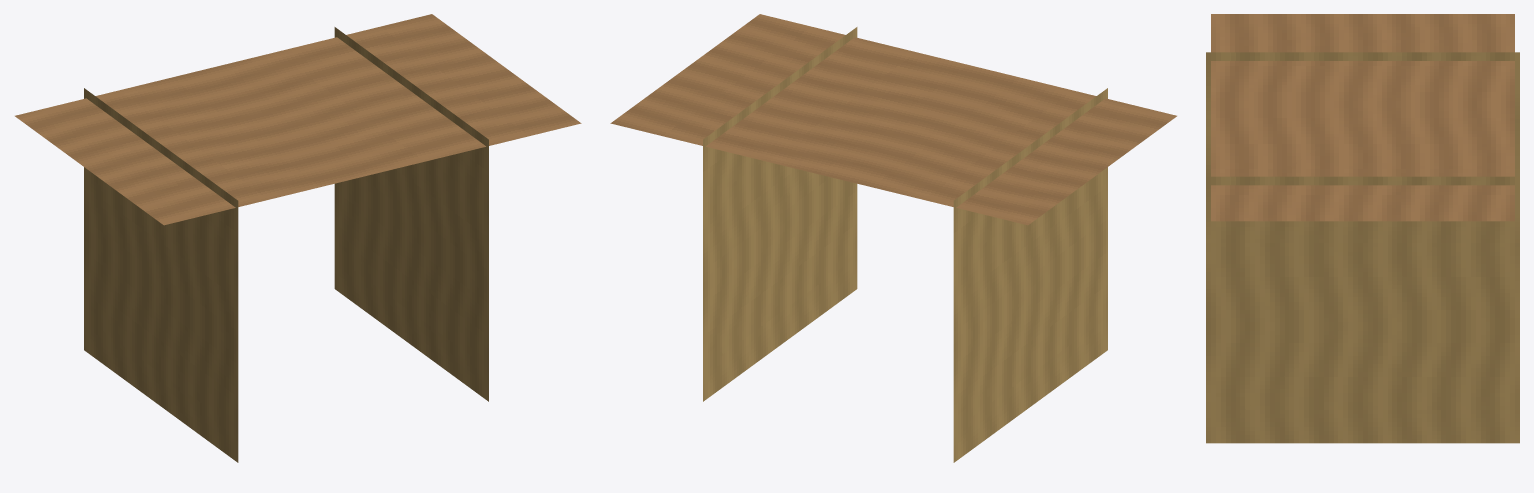
3 views of the same model, side by side, from view 1: azimuth 30°, elevation 25°; view 2: azimuth 150°, elevation 25°; view 3: azimuth 270°, elevation 25° (orthographic).
Parts seen in each view (by area): view 1: Schultruhe aus dunklem Holz; view 2: Schultruhe aus dunklem Holz; view 3: Schultruhe aus dunklem Holz.
Part boxes in pixels (<box>): Schultruhe aus dunklem Holz: <box>15,14,581,462</box>; Schultruhe aus dunklem Holz: <box>610,14,1176,462</box>; Schultruhe aus dunklem Holz: <box>1206,14,1519,443</box>.
Size of the model in its own units: 1 by 0.6 by 0.64.
2 materials, 2 textured.
